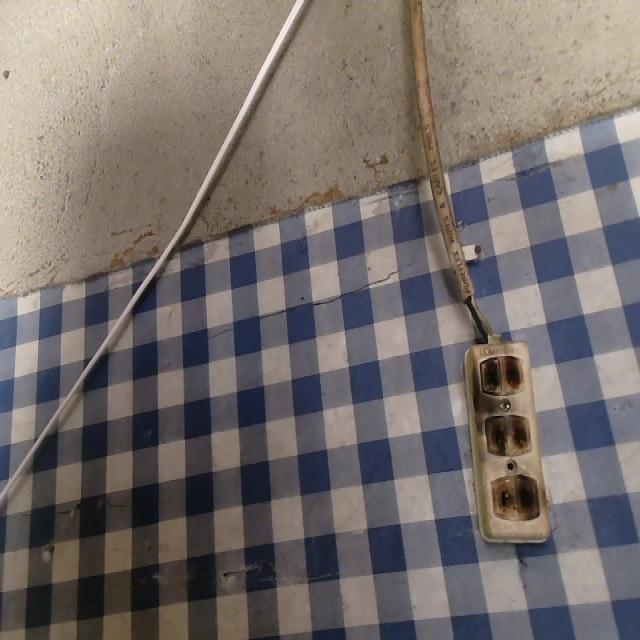-: (483, 468, 543, 525), (483, 408, 534, 463), (471, 348, 528, 393)
